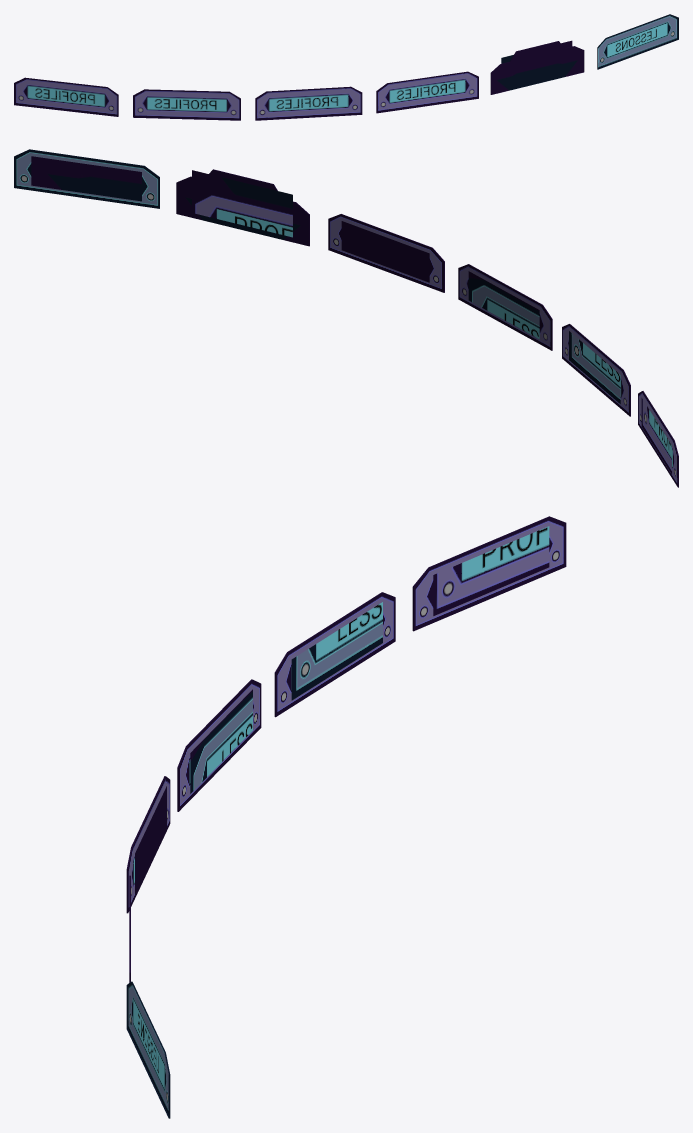
File: Tabs.fbx
The picture shows the model from 3 angles, top to bottom: view 1: azimuth 30°, elevation 25°; view 2: azimuth 150°, elevation 25°; view 3: azimuth 270°, elevation 25°; orthographic projection. The views are drawn at different scales.
Parts seen in each view (by area): view 1: NurseryNameTabBackground, TabThreeBackground, TabTwoBackground, TabFourBackground, TabOneBackground, LessonsTabBackground; view 2: NurseryNameTabLable, LessonsTabLable, LessonsTabBackground, TabOneLable, TabOneBackground, NurseryNameTabBackground, TabTwoLable, TabTwoBackground, TabThreeLable, TabThreeBackground, TabFourLable, TabFourBackground; view 3: TabFourLable, TabFourBackground, TabThreeLable, TabThreeBackground, LessonsTabBackground, TabTwoLable, TabTwoBackground, TabOneLable, TabOneBackground.
Boxes of the visible parts, x1,y1,x2,y2 form: NurseryNameTabBackground: (490,41,584,94); TabThreeBackground: (133,89,240,120); TabTwoBackground: (255,86,362,120); TabFourBackground: (14,77,118,116); TabOneBackground: (376,71,478,113); LessonsTabBackground: (597,14,678,69); NurseryNameTabLable: (192,170,292,237); LessonsTabLable: (31,156,141,201); LessonsTabBackground: (14,149,159,208); TabOneLable: (341,221,429,282); TabOneBackground: (328,214,444,292); NurseryNameTabBackground: (176,169,309,246); TabTwoLable: (468,271,539,339); TabTwoBackground: (458,264,552,350); TabThreeLable: (569,331,620,403); TabThreeBackground: (562,324,630,416); TabFourLable: (641,398,671,474); TabFourBackground: (638,391,678,487); TabFourLable: (433,526,549,615); TabFourBackground: (412,516,566,631); TabThreeLable: (291,602,382,700); TabThreeBackground: (274,592,395,717); LessonsTabBackground: (126,981,170,1118); TabTwoLable: (190,689,252,793); TabTwoBackground: (177,679,261,811); TabOneLable: (135,786,166,894); TabOneBackground: (126,776,170,913).
Size of the model in its own units: 1056 by 66.63 by 355.
1 material, 1 textured.
